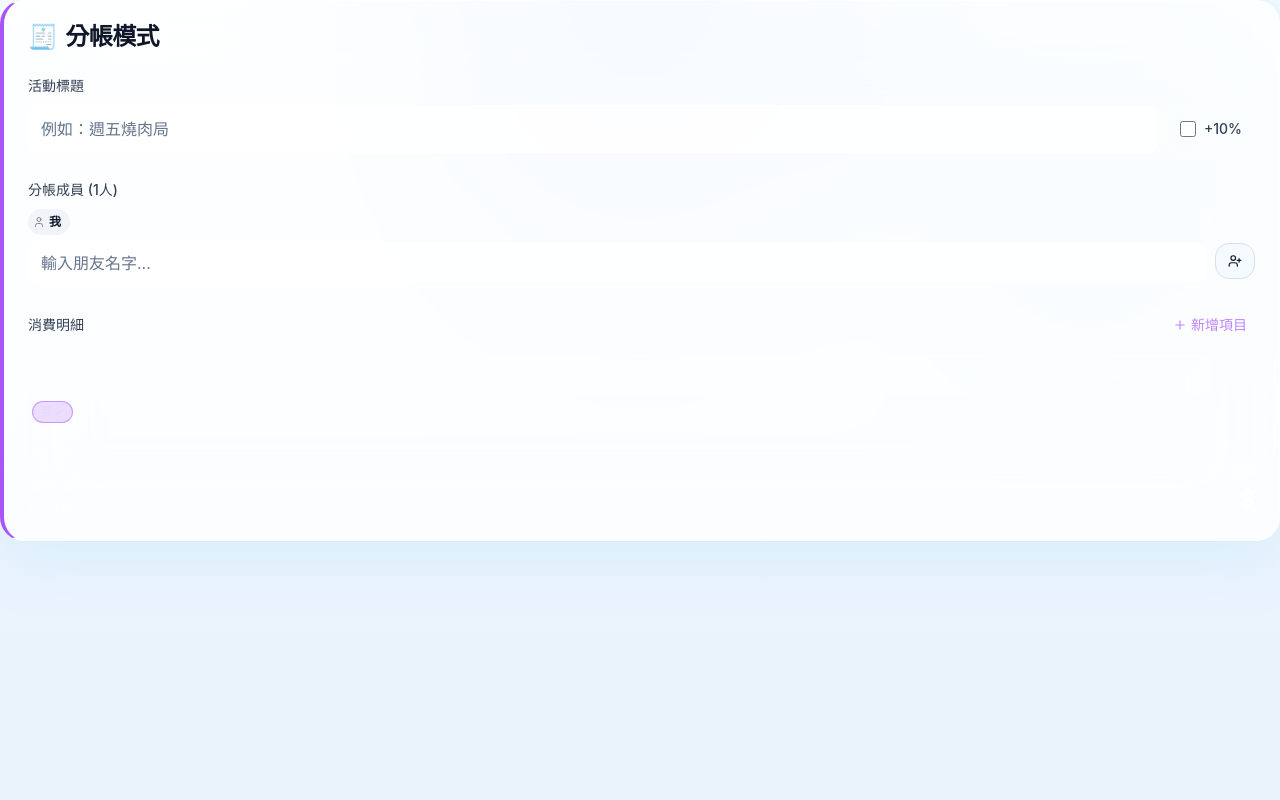
Test case: BillForm Component › 新增重複成員 → 顯示錯誤
Type "小明" into the field with placeholder "輸入朋友名字..." at (618, 263), box 28,243 -> 1207,283
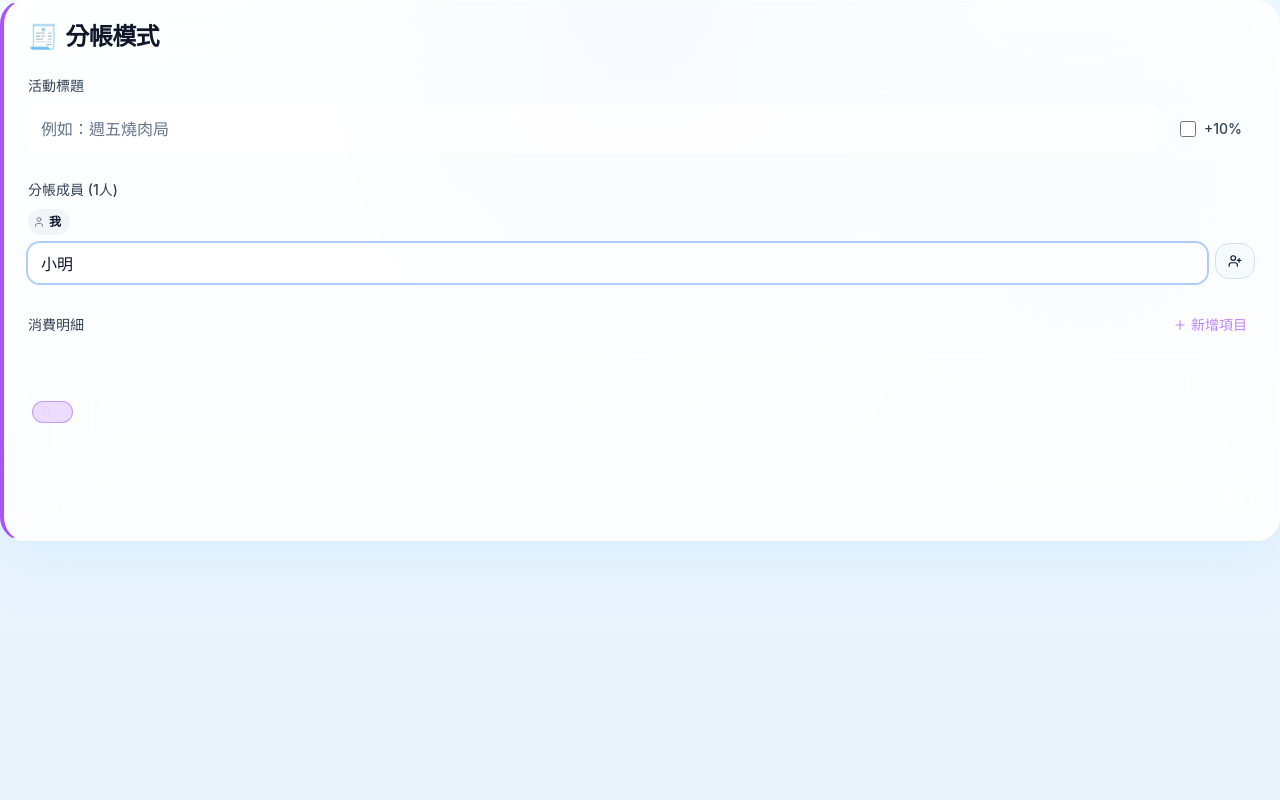
Press Enter
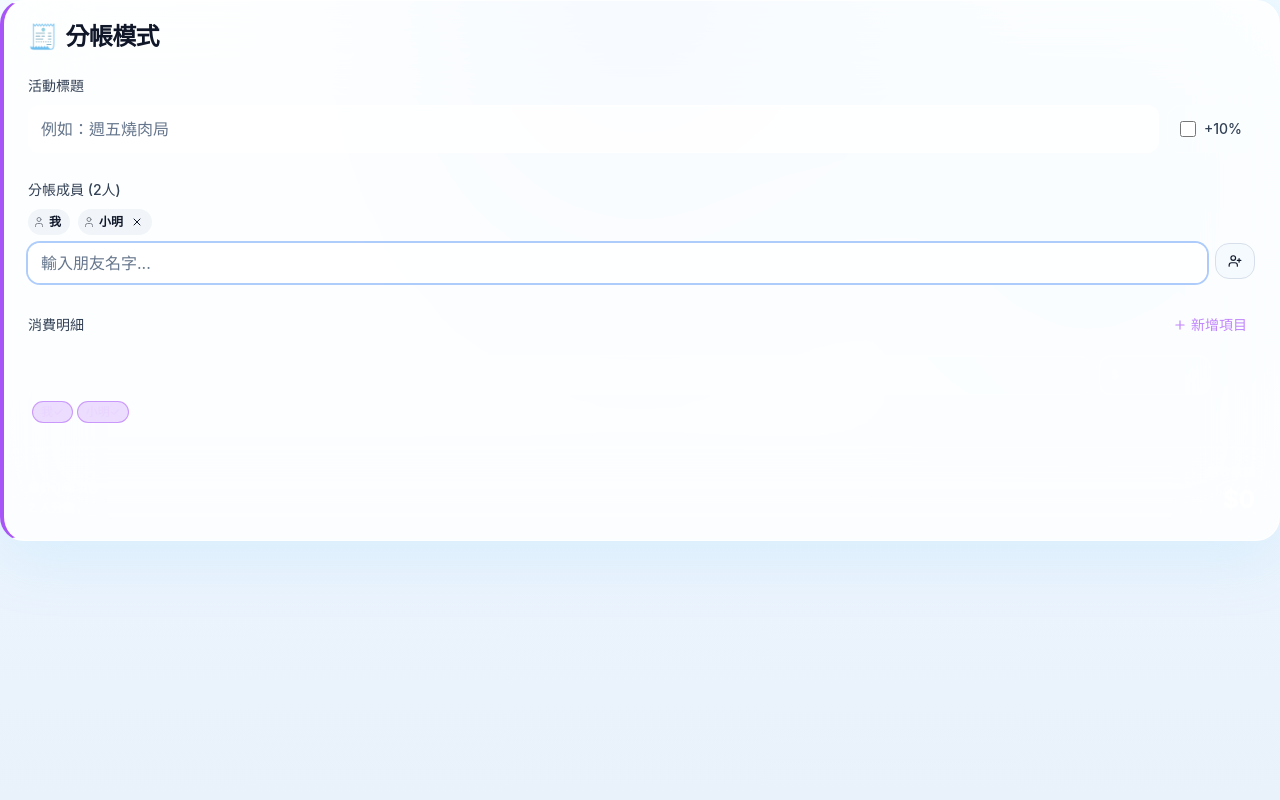
Type "小明" into the field with placeholder "輸入朋友名字..." at (618, 263), box 28,243 -> 1207,283
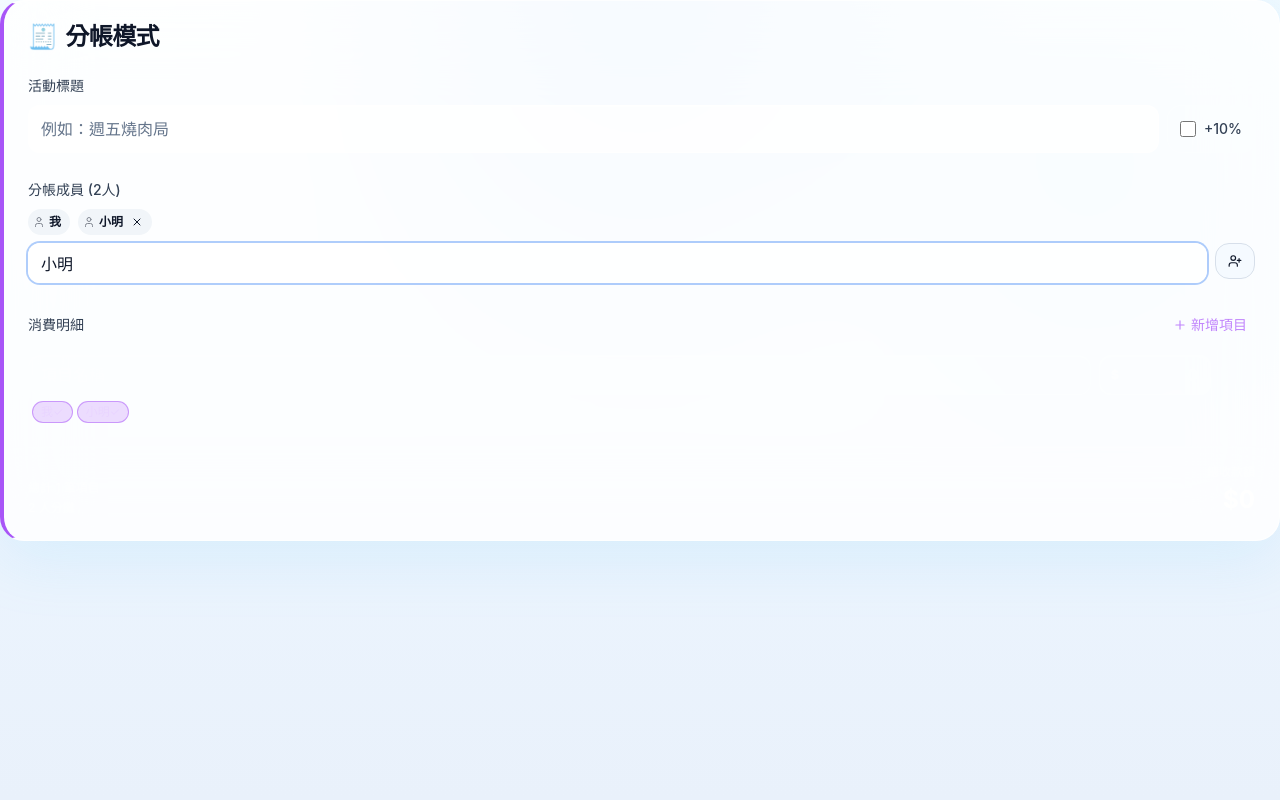
Press Enter
Wait 100 ms
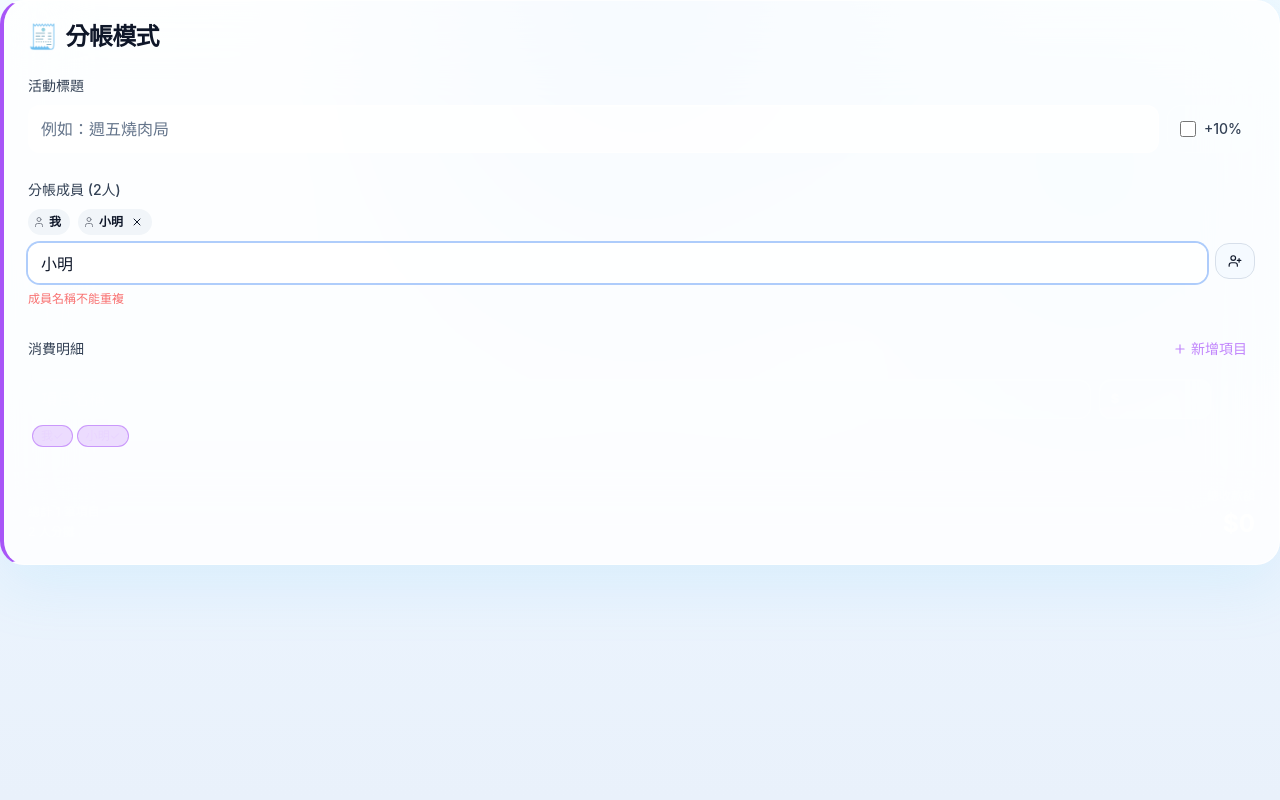
Expected: the text "成員名稱不能重複" is shown, 28,291 -> 124,306
